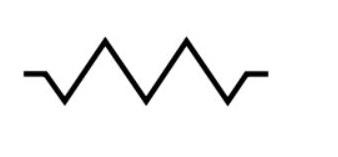resistor: (30, 27, 260, 115)
